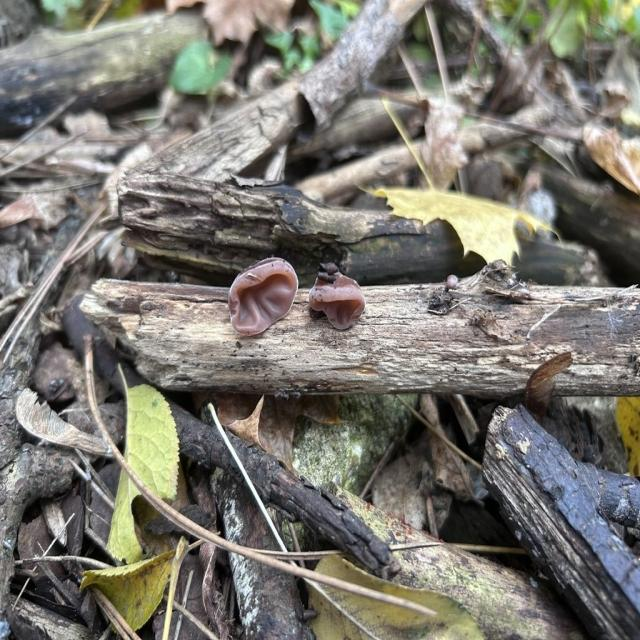Matang: (228, 254, 302, 337), (307, 262, 367, 331)
